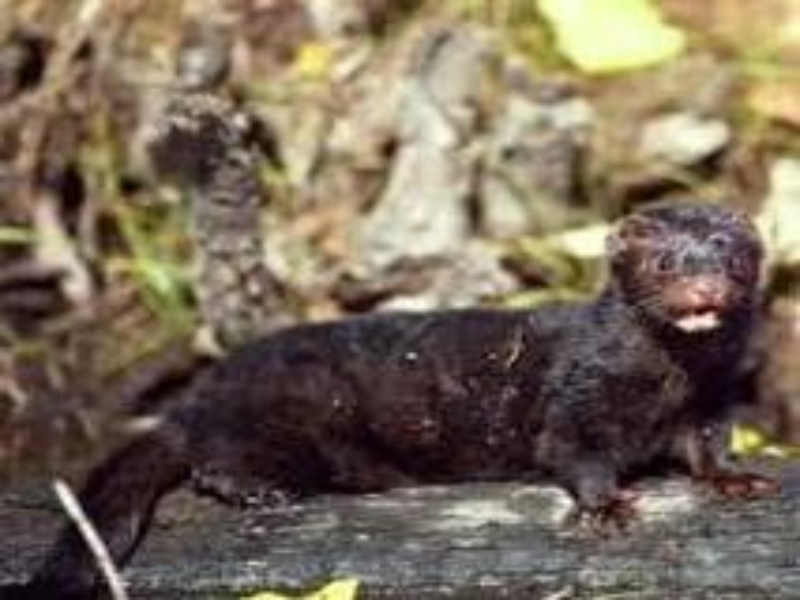minkish: (25, 201, 771, 600)
